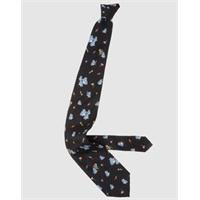tie: (66, 4, 153, 196)
